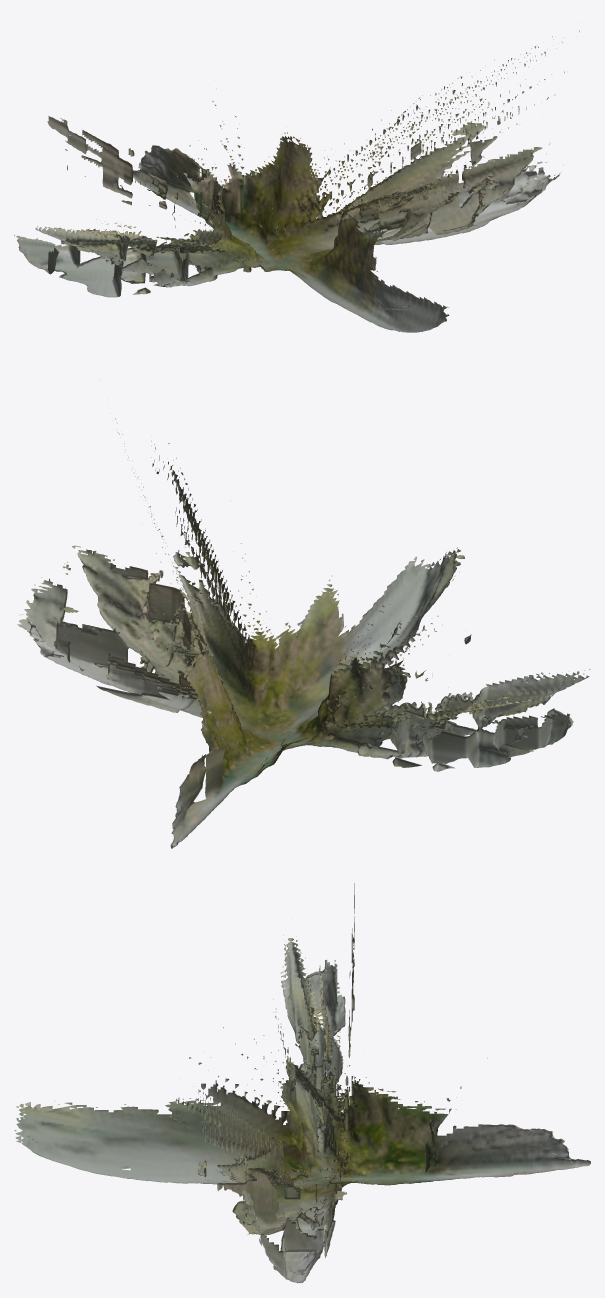
Rendered from LordOfTheRingsCollider.glb.
The picture shows the model from 3 angles, top to bottom: view 1: azimuth 30°, elevation 25°; view 2: azimuth 150°, elevation 25°; view 3: azimuth 270°, elevation 25°; orthographic projection. The views are drawn at different scales.
Visible parts, largest first — view 1: world; view 2: world; view 3: world.
Boxes of the visible parts, <box> form: world: <box>14,30,579,332</box>; world: <box>17,418,590,848</box>; world: <box>14,883,590,1283</box>.
Size of the model in its own units: 35.69 by 15.65 by 33.33.
